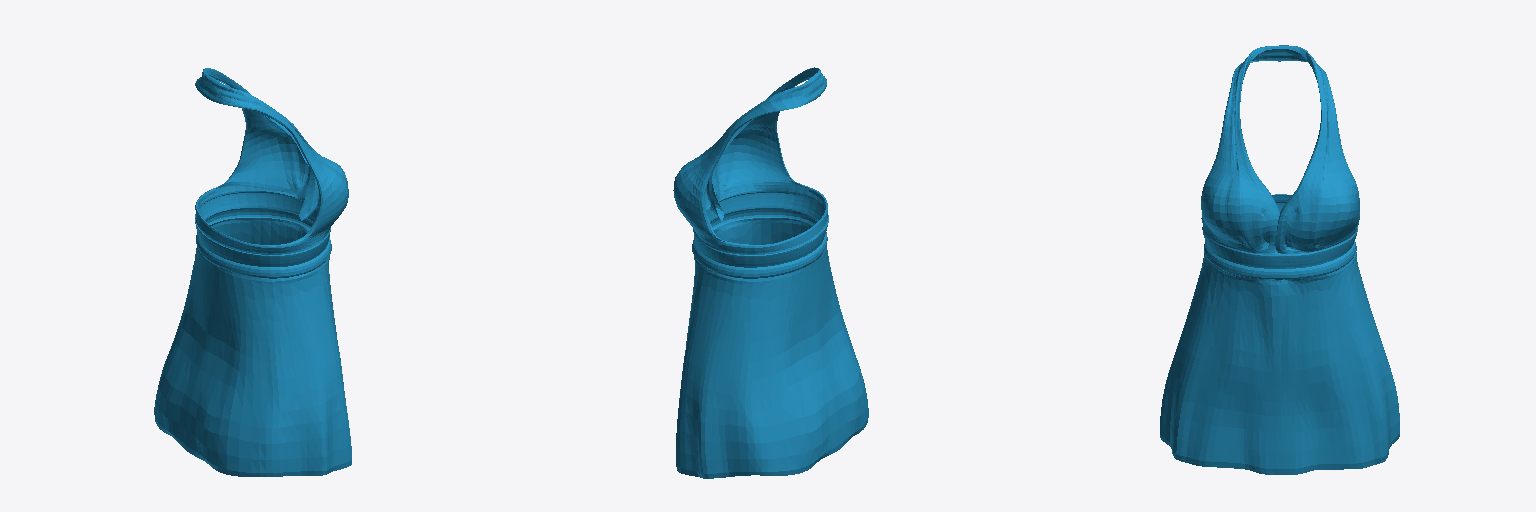
File: duanqun3.obj
3 views of the same model, side by side, from view 1: azimuth 30°, elevation 25°; view 2: azimuth 150°, elevation 25°; view 3: azimuth 270°, elevation 25° (orthographic).
Visible parts, largest first — view 1: file.002; view 2: file.002; view 3: file.002.
Part boxes in pixels (x1,y1,x2,y2): file.002: (154,68,351,476); file.002: (673,67,868,478); file.002: (1160,45,1399,474).
Size of the model in its own units: 2.47 by 6.25 by 3.61.